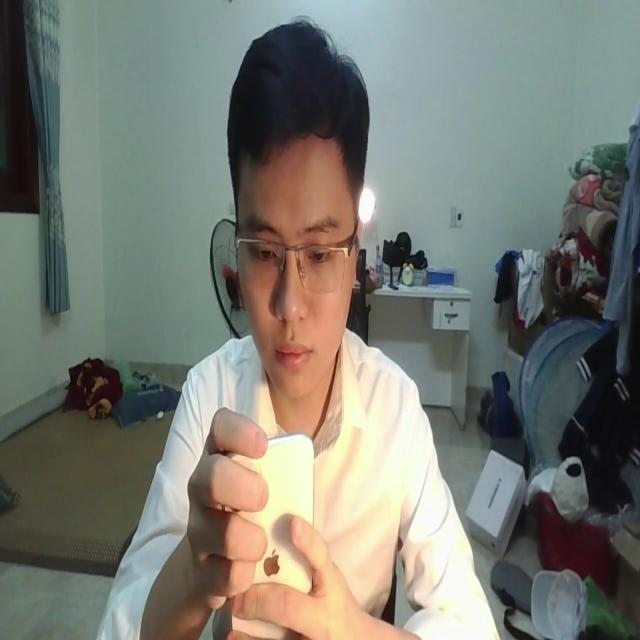phone: (217, 409, 320, 637)
student: (101, 14, 493, 640)
